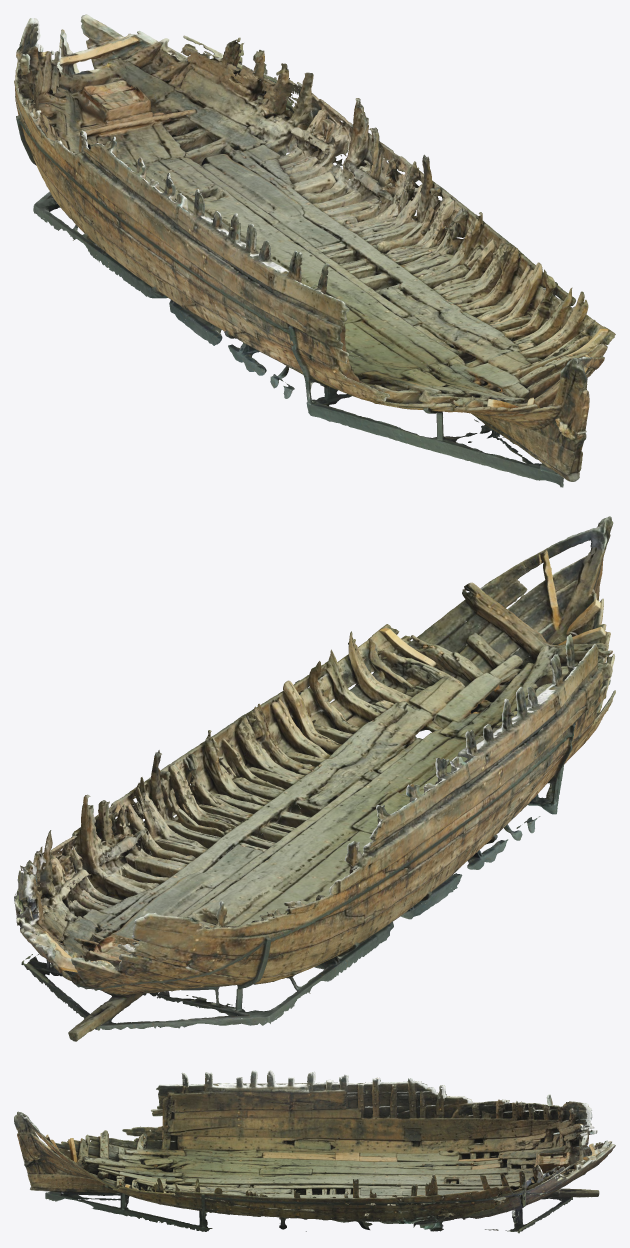
The model's file is wreck.glb.
3 renders of one model, top to bottom at view 1: azimuth 30°, elevation 25°; view 2: azimuth 150°, elevation 25°; view 3: azimuth 270°, elevation 25°, orthographic. The views are drawn at different scales.
Visible parts, largest first — view 1: Model_material3_0, Model_material2_0, Model_material0_0, Model_material1_0; view 2: Model_material0_0, Model_material3_0, Model_material2_0, Model_material1_0; view 3: Model_material2_0, Model_material3_0, Model_material0_0, Model_material1_0.
Part boxes in pixels (box(x1,y1,x2,y2)): Model_material3_0: box(16, 22, 611, 481); Model_material2_0: box(14, 14, 607, 487); Model_material0_0: box(15, 18, 615, 482); Model_material1_0: box(15, 26, 604, 463); Model_material0_0: box(15, 539, 614, 1023); Model_material3_0: box(14, 526, 615, 1029); Model_material2_0: box(14, 516, 615, 1041); Model_material1_0: box(15, 516, 614, 1039); Model_material2_0: box(14, 1072, 615, 1231); Model_material3_0: box(21, 1072, 610, 1233); Model_material0_0: box(30, 1070, 607, 1231); Model_material1_0: box(22, 1070, 607, 1231).
Size of the model in its own units: 0.3176 by 0.173 by 1.
4 materials, 4 textured.
